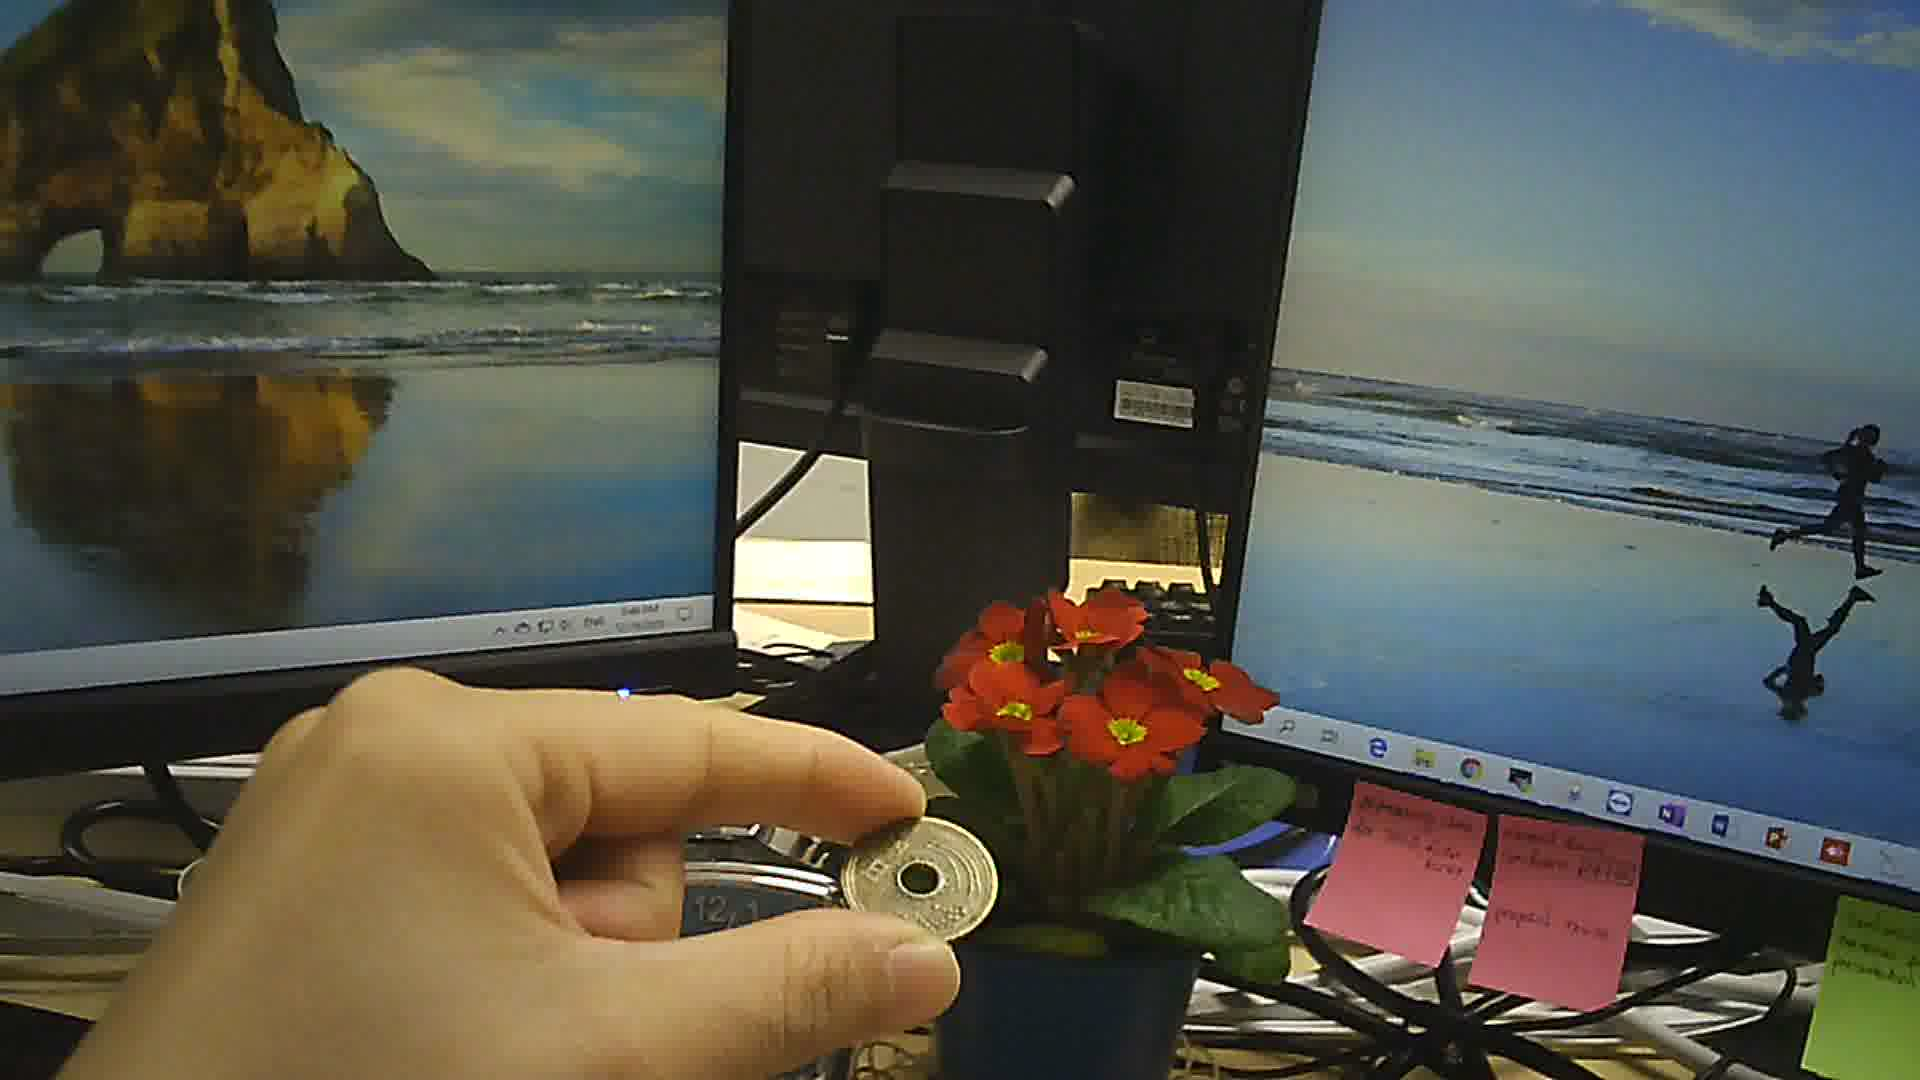5 Yen: (832, 812, 1004, 942)
